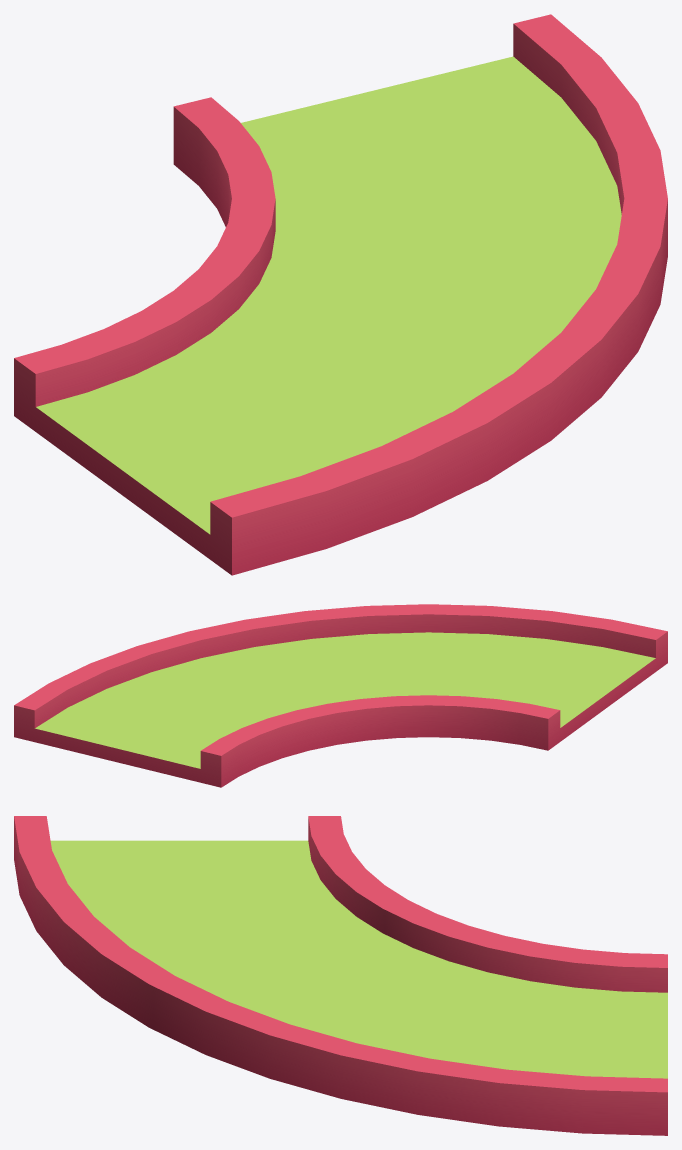
Rendered from round-large-corner.fbx.
The picture shows the model from 3 angles, top to bottom: view 1: azimuth 30°, elevation 25°; view 2: azimuth 150°, elevation 25°; view 3: azimuth 270°, elevation 25°; orthographic projection. The views are drawn at different scales.
Visible parts, largest first — view 1: round_large_corner; view 2: round_large_corner; view 3: round_large_corner.
Part boxes in pixels (box(x1,y1,x2,y2)): round_large_corner: box(14, 14, 667, 575); round_large_corner: box(14, 604, 667, 787); round_large_corner: box(14, 816, 667, 1135).
Bounding box in the file's own units: 200 × 14.67 × 200.
Materials: 1 (1 with a texture image).
